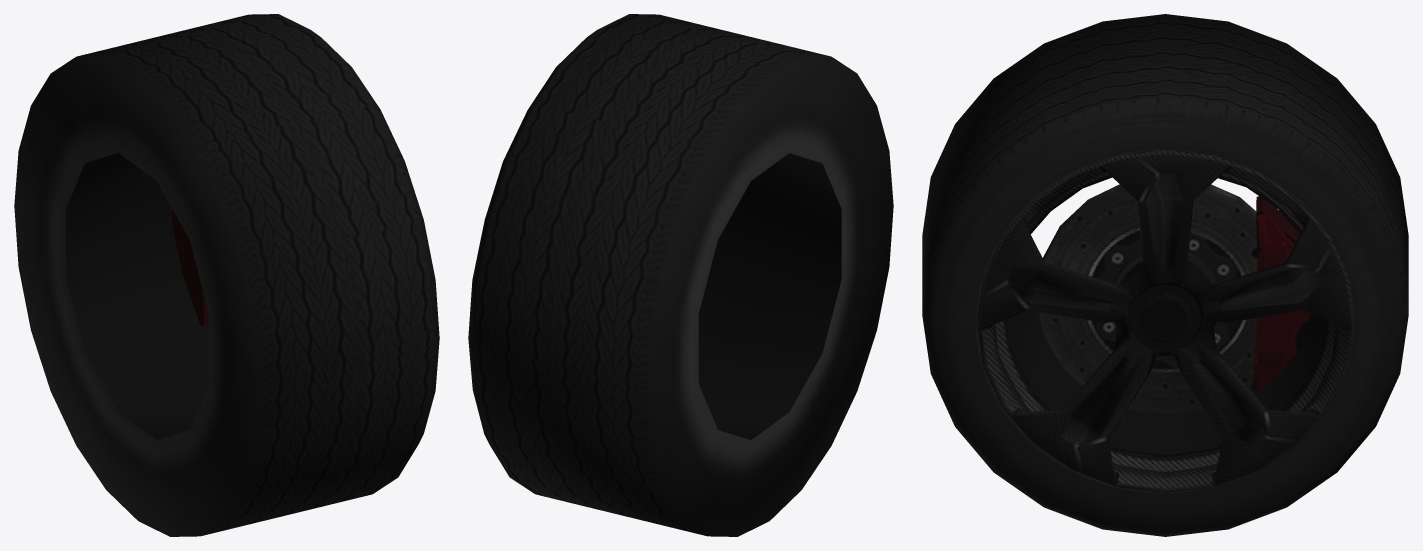
The model's file is WP18_wheelpack.glb.
The picture shows the model from 3 angles, left to right: view 1: azimuth 30°, elevation 25°; view 2: azimuth 150°, elevation 25°; view 3: azimuth 270°, elevation 25°; orthographic projection.
Parts seen in each view (by area): view 1: MOD_ND_WP18_tyre, MOD_ND_WP18_rim, MOD_ND_WP18_brakes; view 2: MOD_ND_WP18_tyre, MOD_ND_WP18_rim; view 3: MOD_ND_WP18_tyre, MOD_ND_WP18_rim, MOD_ND_WP18_brakes.
Boxes of the visible parts, x1,y1,x2,y2 form: MOD_ND_WP18_tyre: (14,14,439,536); MOD_ND_WP18_rim: (66,153,208,439); MOD_ND_WP18_brakes: (172,209,208,325); MOD_ND_WP18_tyre: (468,14,893,536); MOD_ND_WP18_rim: (698,153,841,439); MOD_ND_WP18_tyre: (922,14,1408,536); MOD_ND_WP18_rim: (976,150,1354,492); MOD_ND_WP18_brakes: (1039,184,1316,414).
Bounding box in the file's own units: 0.2871 × 0.6414 × 0.6414.
Materials: 2 (2 with a texture image).
